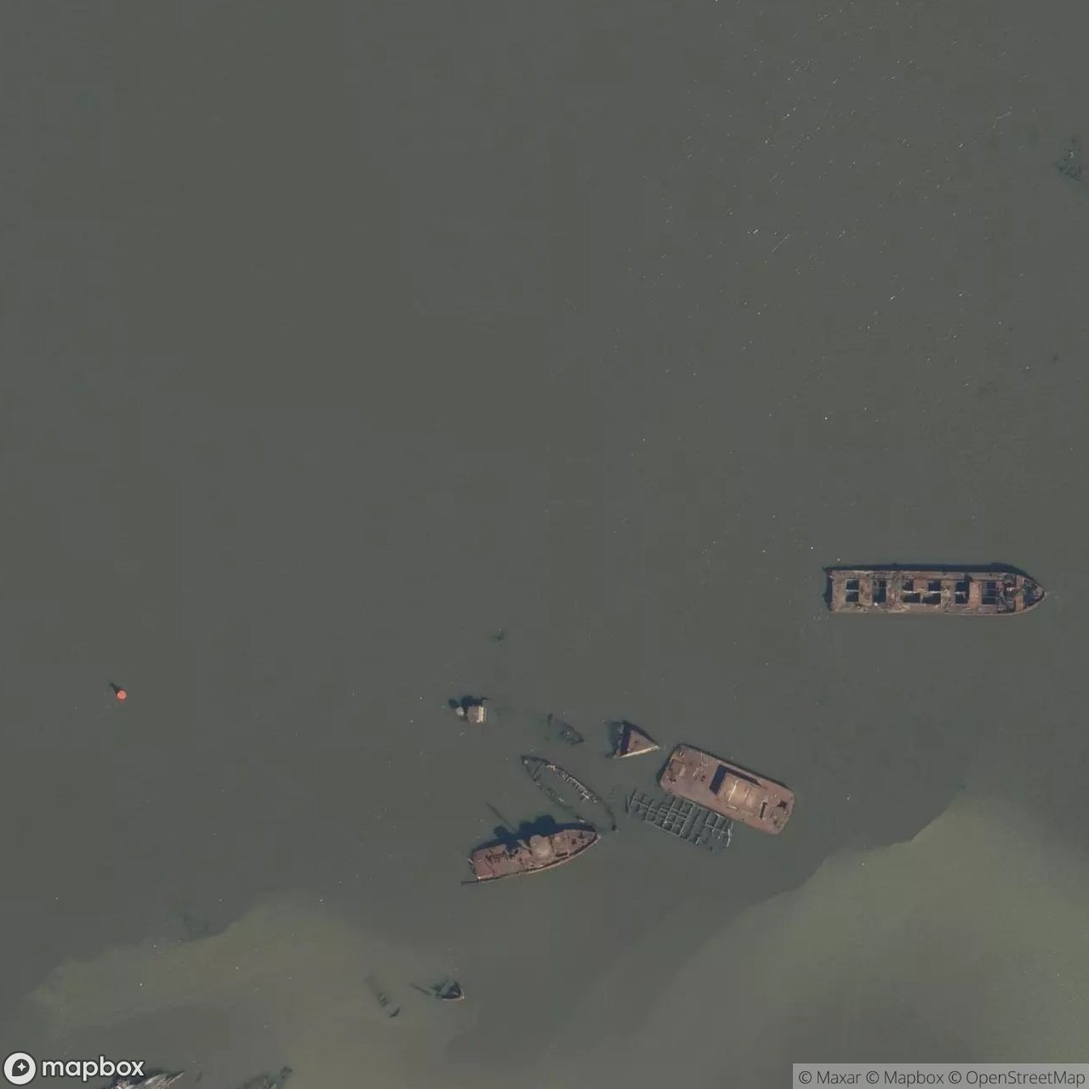Wreck: (410, 684, 801, 900), (802, 545, 1062, 623)
